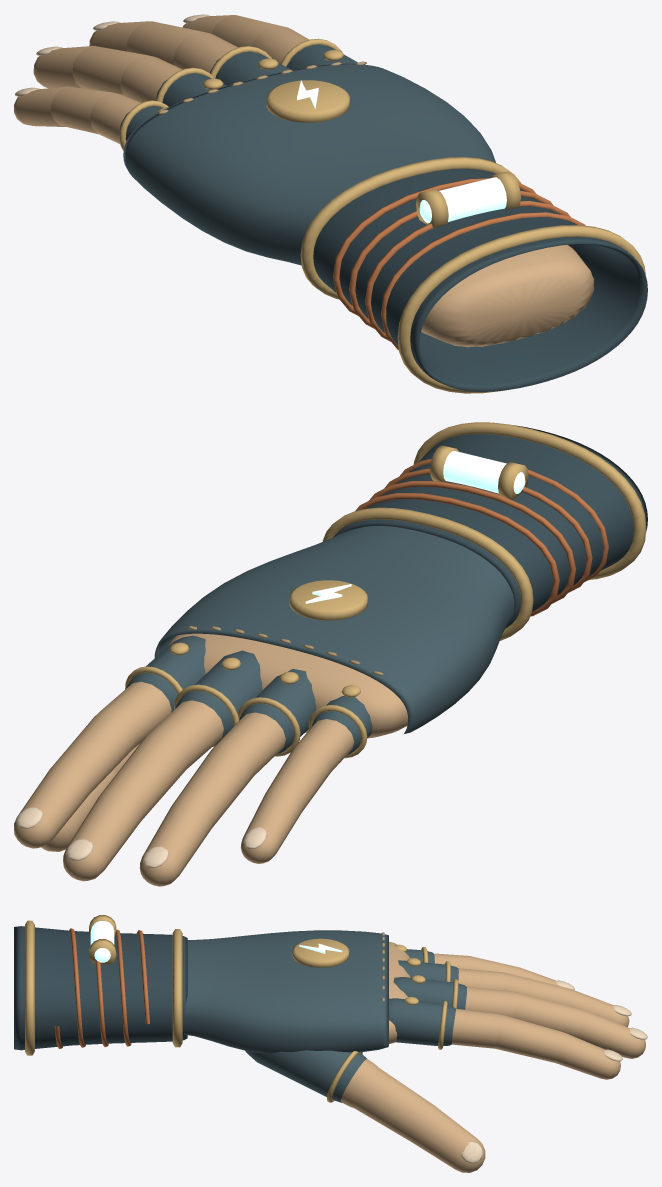
The model's file is pocket_thunder_hand_L.glb.
3 views of the same model, one above another, from view 1: azimuth 30°, elevation 25°; view 2: azimuth 150°, elevation 25°; view 3: azimuth 270°, elevation 25° (orthographic). The views are drawn at different scales.
Parts seen in each view (by area): view 1: L_GloveBack, L_Cuff, L_Palm, L_ThunderCoil, L_CuffBand2, L_CuffBand1, L_Medallion, L_Ring_2_Skin, L_ThunderCell, L_Ring_1_Skin, L_Middle_2_Skin, L_Pinky_2_Skin (+12 smaller); view 2: L_GloveBack, L_Cuff, L_Palm, L_ThunderCoil, L_CuffBand2, L_Middle_2_Skin, L_Middle_3_Skin, L_CuffBand1, L_Index_2_Skin, L_Ring_2_Skin, L_Index_3_Skin, L_Ring_3_Skin (+16 smaller); view 3: L_GloveBack, L_Cuff, L_Thumb_Sleeve, L_Thumb_1_Skin, L_Thumb_2_Skin, L_Index_Sleeve, L_ThunderCoil, L_Index_2_Skin, L_Middle_2_Skin, L_Middle_3_Skin, L_Index_3_Skin, L_Index_1_Skin (+15 smaller).
Boxes of the visible parts, x1,y1,x2,y2 form: L_GloveBack: (123,63,495,265); L_Cuff: (313,168,647,391); L_Palm: (421,245,594,347); L_ThunderCoil: (333,178,585,350); L_CuffBand2: (397,225,645,393); L_CuffBand1: (300,157,521,299); L_Medallion: (266,80,349,122); L_Ring_2_Skin: (72,46,155,94); L_ThunderCell: (419,177,506,223); L_Ring_1_Skin: (120,55,182,102); L_Middle_2_Skin: (127,21,211,64); L_Pinky_2_Skin: (50,86,118,134); L_GloveBack: (154,526,514,733); L_Cuff: (333,425,647,628); L_Palm: (167,633,407,738); L_ThunderCoil: (355,458,608,616); L_CuffBand2: (413,422,646,579); L_Middle_2_Skin: (100,732,189,820); L_Middle_3_Skin: (63,791,141,881); L_CuffBand1: (322,507,533,640); L_Index_2_Skin: (50,710,137,793); L_Ring_2_Skin: (172,743,255,827); L_Index_3_Skin: (14,764,90,848); L_Ring_3_Skin: (139,800,212,886); L_GloveBack: (184,930,388,1053); L_Cuff: (14,926,187,1050); L_Thumb_Sleeve: (245,1050,366,1102); L_Thumb_1_Skin: (354,1069,433,1140); L_Thumb_2_Skin: (410,1105,485,1172); L_Index_Sleeve: (389,998,455,1046); L_ThunderCoil: (54,928,149,1048); L_Index_2_Skin: (495,1014,563,1062); L_Middle_2_Skin: (513,992,584,1037); L_Middle_3_Skin: (578,1010,645,1058); L_Index_3_Skin: (555,1032,620,1079); L_Index_1_Skin: (451,1008,500,1048).
Size of the model in its own units: 0.1194 by 0.088 by 0.2789.
